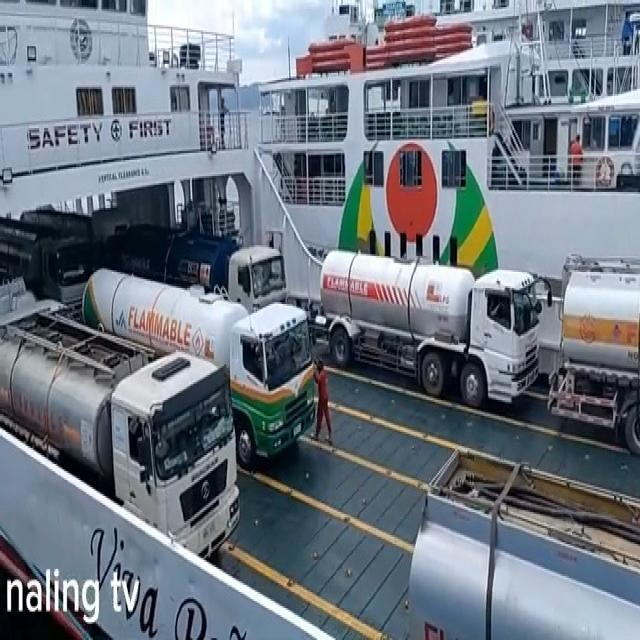truck: (0, 297, 240, 569), (82, 266, 316, 474), (320, 250, 540, 415), (548, 266, 640, 458), (118, 224, 288, 318)
